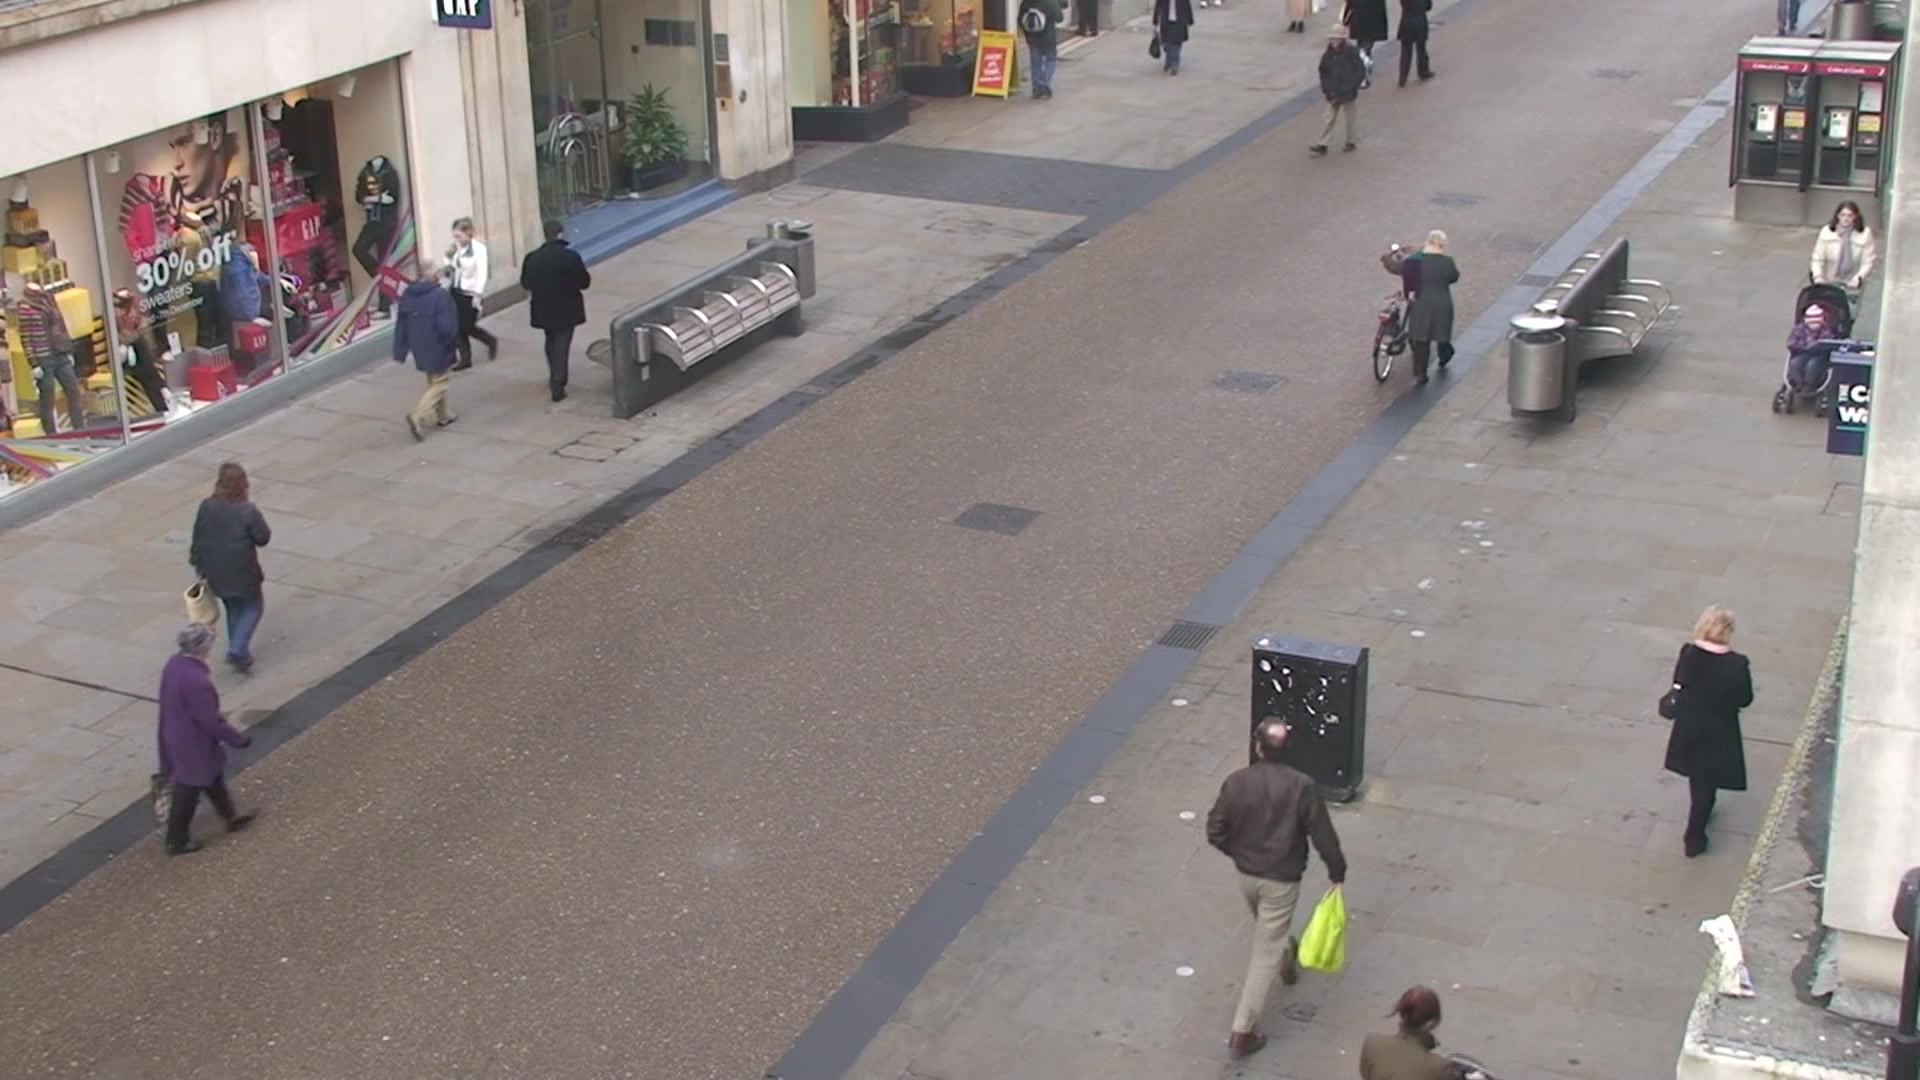person: (1207, 717, 1346, 1057), (1660, 601, 1754, 856), (159, 622, 257, 856), (192, 463, 271, 670), (392, 257, 461, 443), (519, 222, 589, 403), (1384, 229, 1461, 383), (439, 216, 498, 375), (1309, 24, 1370, 161)
